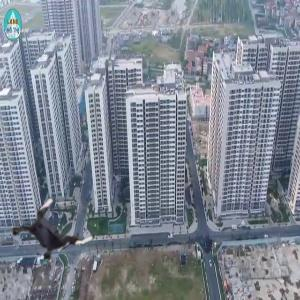drone: (14, 196, 91, 273)
